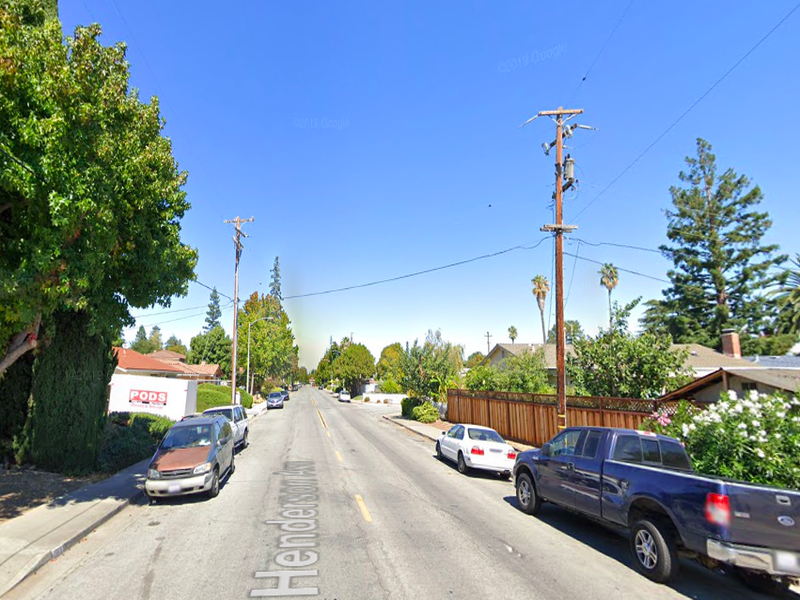utility_pole: (519, 97, 601, 204), (218, 206, 258, 262)
